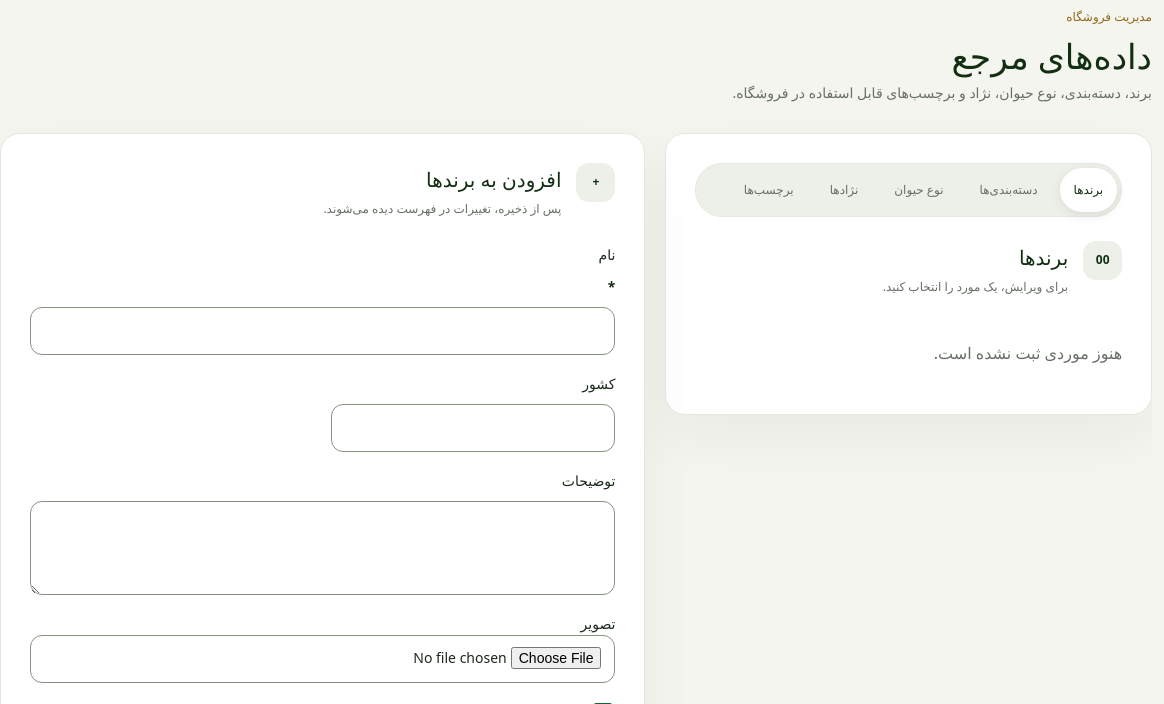
retains the existing نژادها creation contract
Click the button "نژادها": (844, 190) [816,168,872,212]
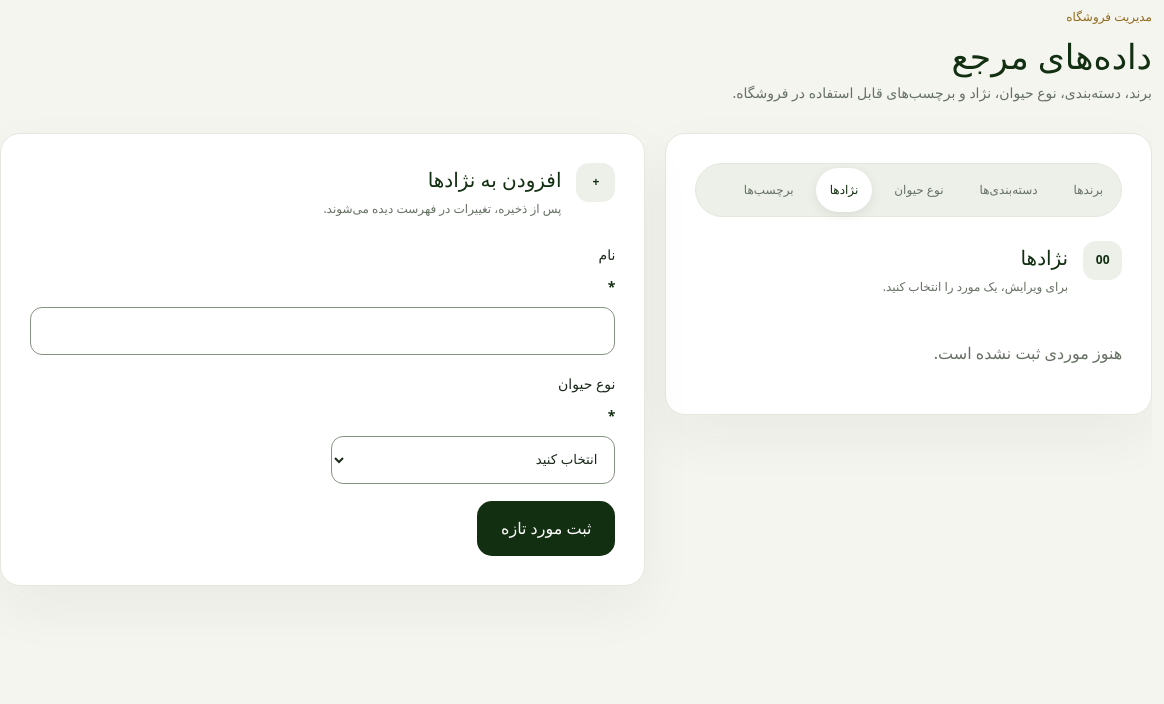
In the field labelled "نام *": (323, 331) [30,307,616,355], type "مرجع تازه"
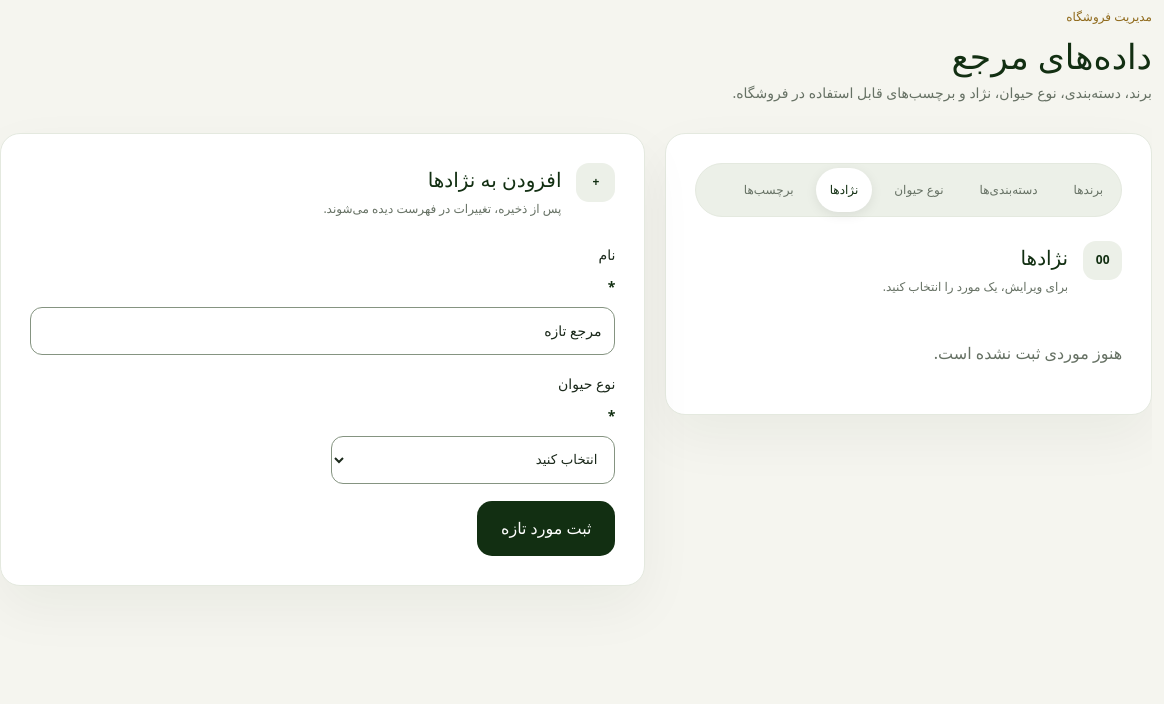
Select "گربه" in the dropdown labelled "نوع حیوان *": (473, 460) [331,436,615,484]
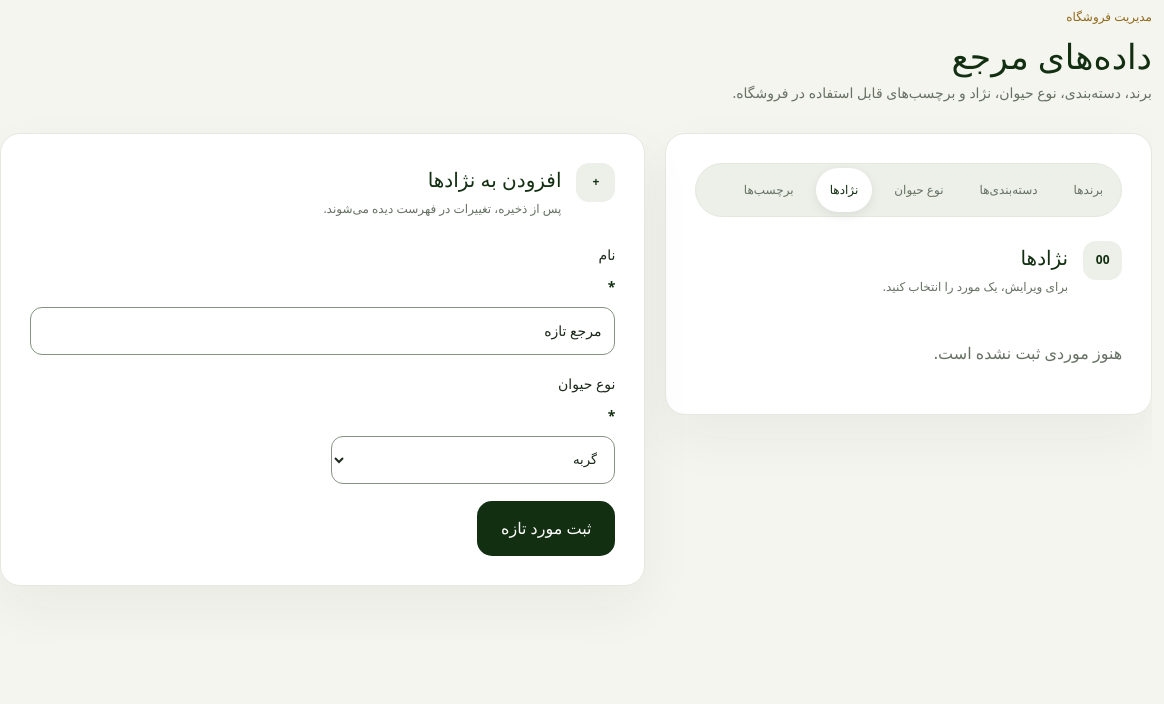
Click the button "ثبت مورد تازه": (546, 528) [477,501,615,556]
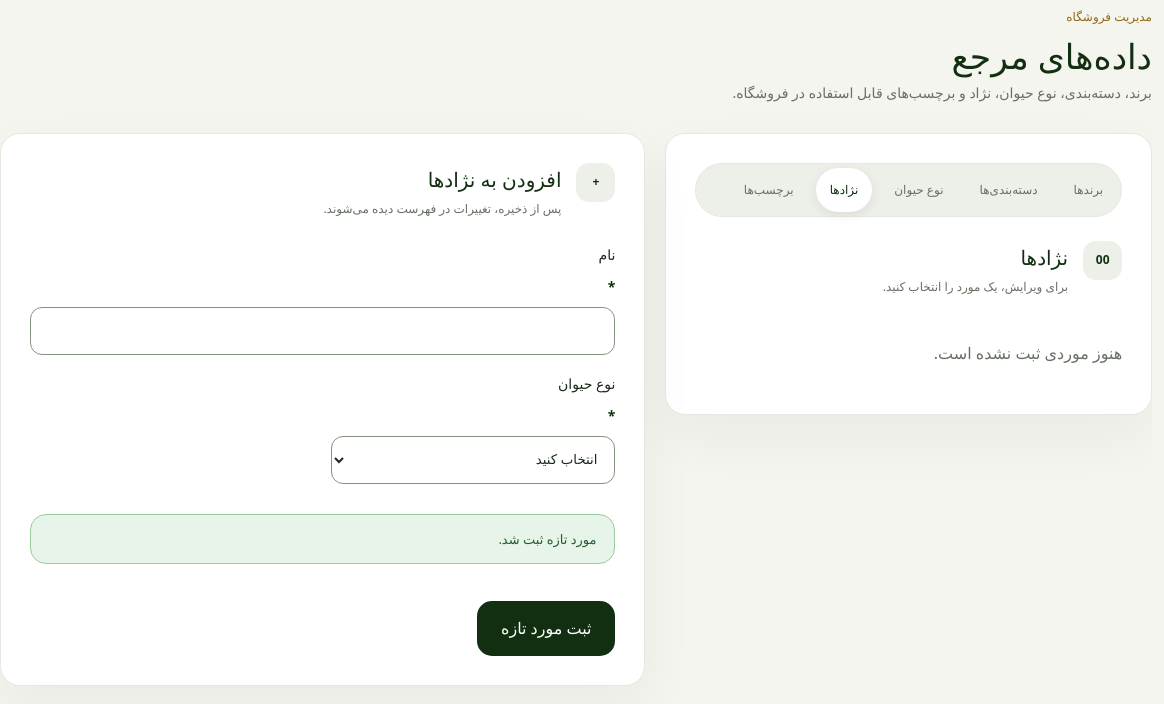
Expected: the text "مورد تازه ثبت شد." is shown, [30,514,616,564]
